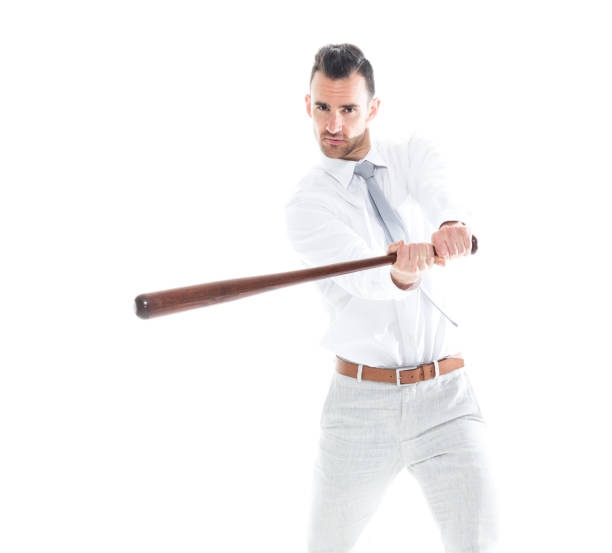bita: (132, 228, 472, 322)
